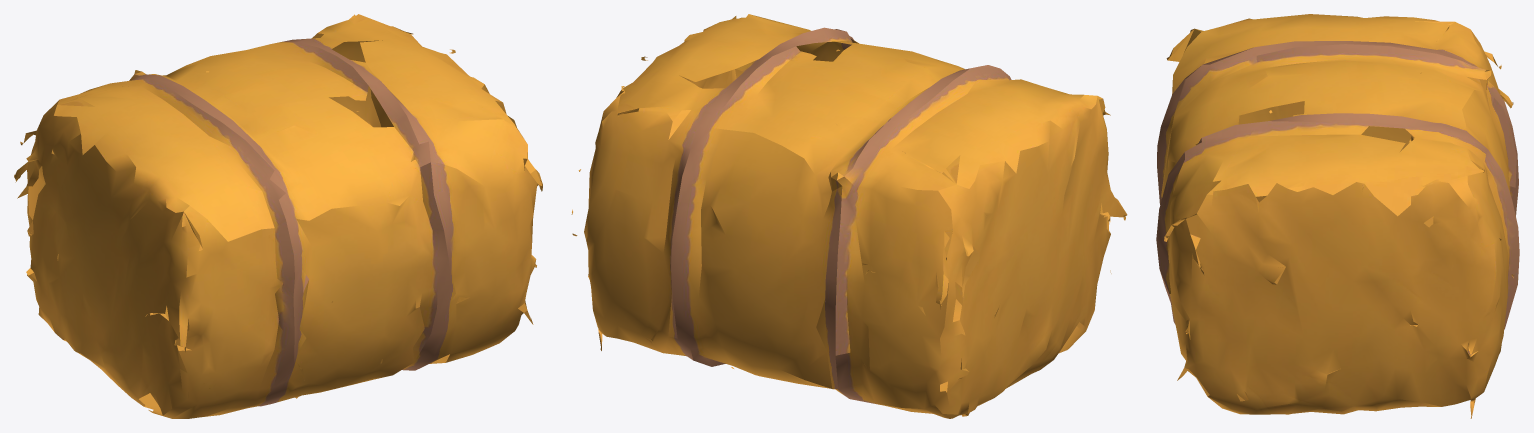
Rendered from Manor_HayBale_01.glb.
3 views of the same model, side by side, from view 1: azimuth 30°, elevation 25°; view 2: azimuth 150°, elevation 25°; view 3: azimuth 270°, elevation 25° (orthographic). The views are drawn at different scales.
Visible parts, largest first — view 1: Manor_HayBale_01.001; view 2: Manor_HayBale_01.001; view 3: Manor_HayBale_01.001.
Part boxes in pixels (x1,y1,x2,y2): Manor_HayBale_01.001: (14,14,542,418); Manor_HayBale_01.001: (571,14,1127,418); Manor_HayBale_01.001: (1156,14,1519,418).
Bounding box in the file's own units: 1 × 0.6766 × 0.8165.
Materials: 1 (1 with a texture image).
